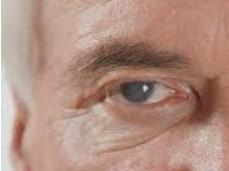eye: (120, 82, 154, 103)
